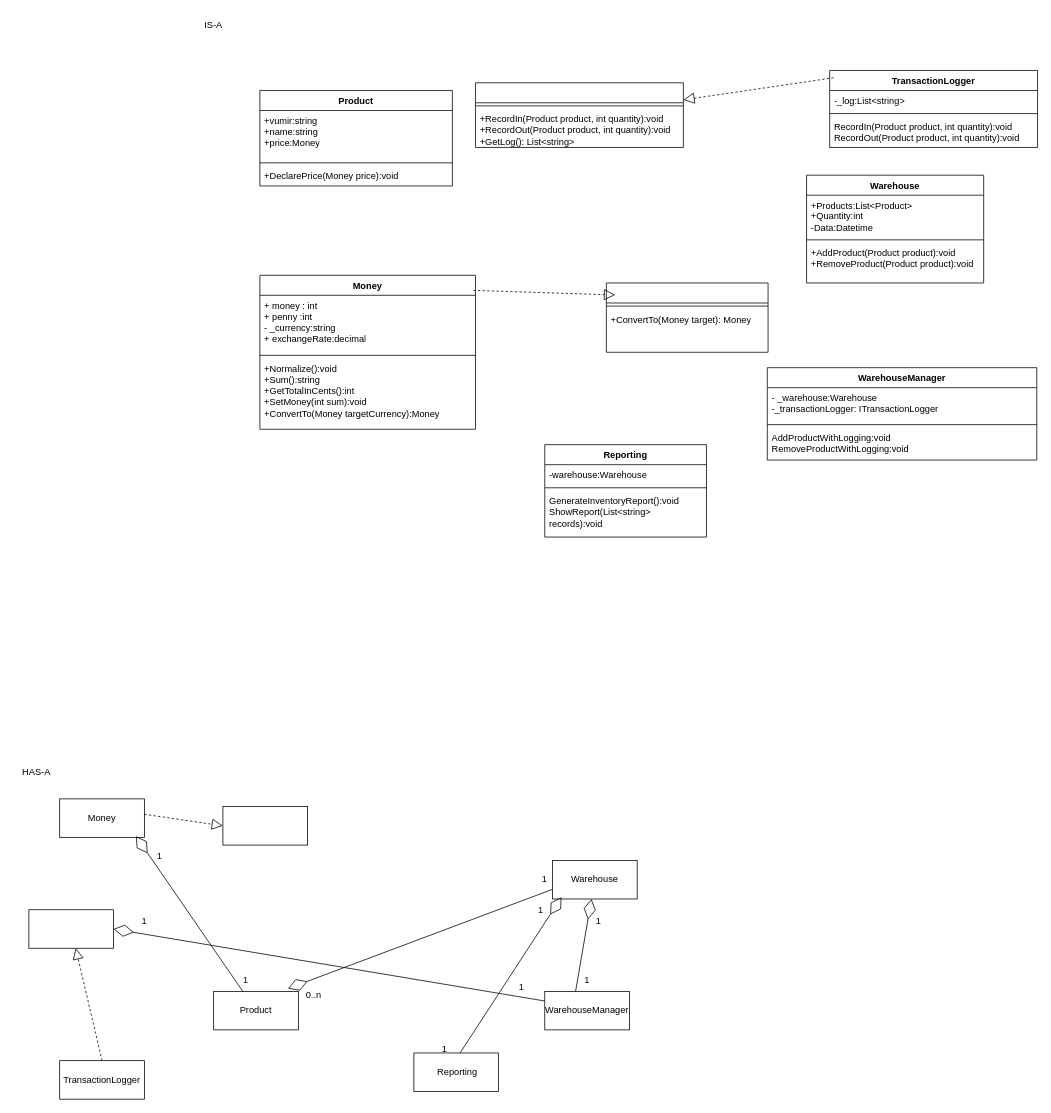
The diagram is 1051 pixels wide and 1113 high, and some of its shapes have lost their labels. The shapes that lost their labels are listed below. From the top down, each one's box as (x1, y1, x2, y2) in pixels, then its label:
(475, 82, 683, 147): <<interface>> ITransactionLogger
(606, 282, 768, 352): <<Interface>> Convert
(222, 806, 308, 845): Convert
(28, 909, 114, 948): ITransactionLogger
